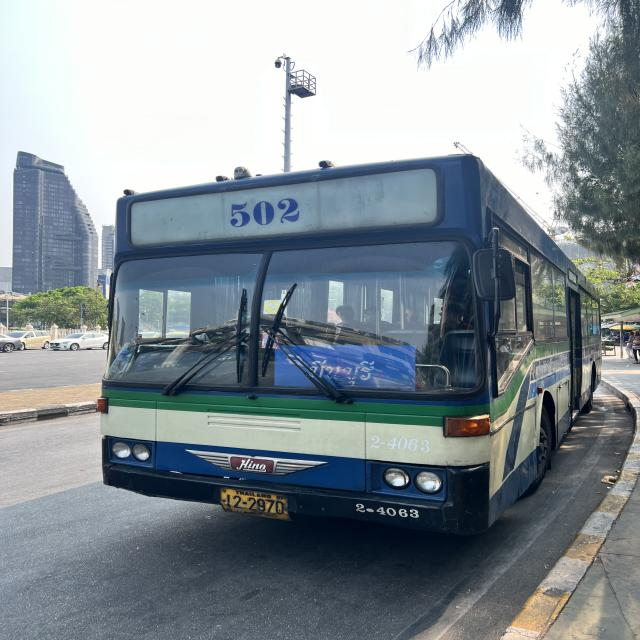BMTA-bus: (97, 154, 602, 538)
Bus-Line-Number: (215, 191, 311, 232)
Destination-Sign-Normal: (276, 346, 418, 390)
